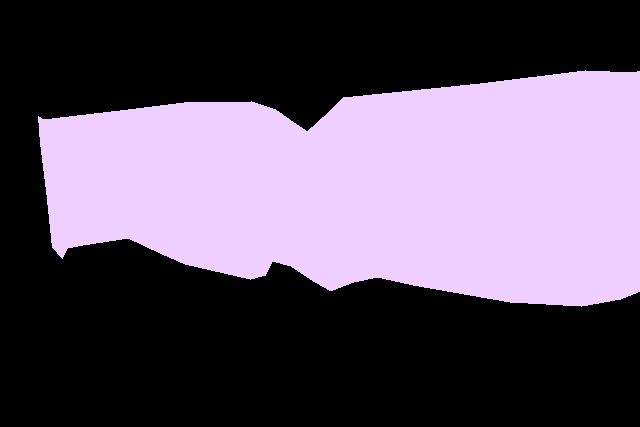Train: (38, 70, 640, 307)
